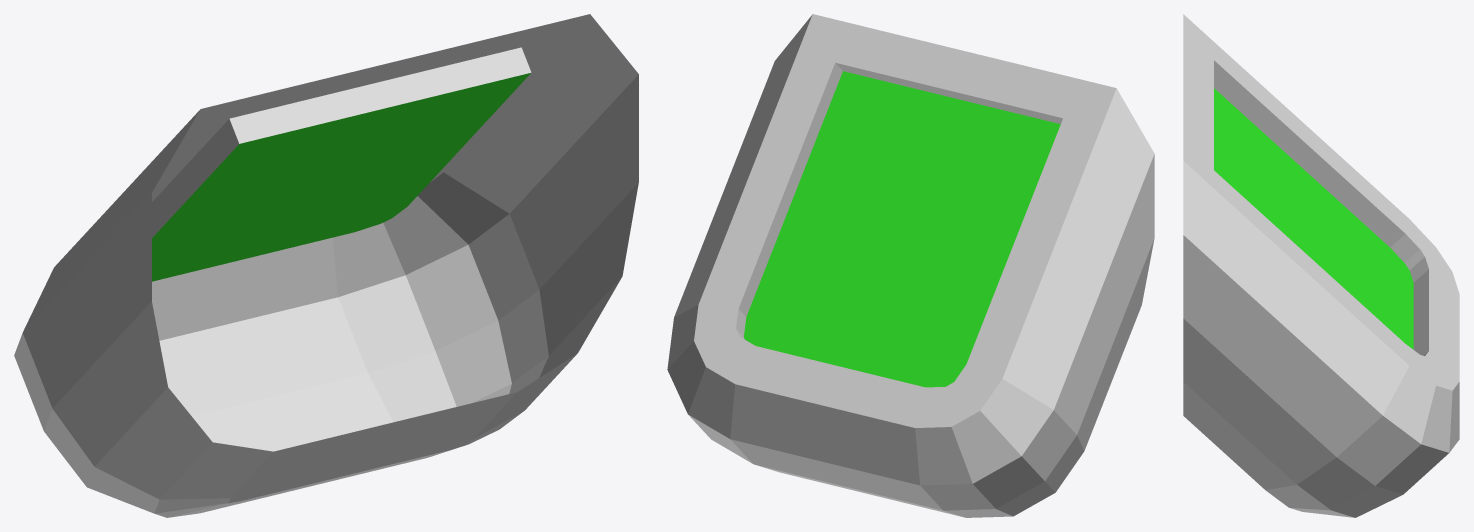
Rendered from TouchPanel.fbx.
The picture shows the model from 3 angles, left to right: view 1: azimuth 30°, elevation 25°; view 2: azimuth 150°, elevation 25°; view 3: azimuth 270°, elevation 25°; orthographic projection. The views are drawn at different scales.
Parts seen in each view (by area): view 1: TouchPanel; view 2: TouchPanel; view 3: TouchPanel.
Boxes of the visible parts, left/top/right/bottom form: TouchPanel: left=14, top=14, right=638, bottom=517; TouchPanel: left=667, top=14, right=1154, bottom=517; TouchPanel: left=1183, top=14, right=1459, bottom=517.
Size of the model in its own units: 20 by 18.97 by 12.73.
